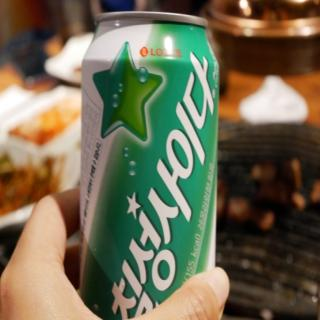cocacola: (80, 8, 218, 320)
